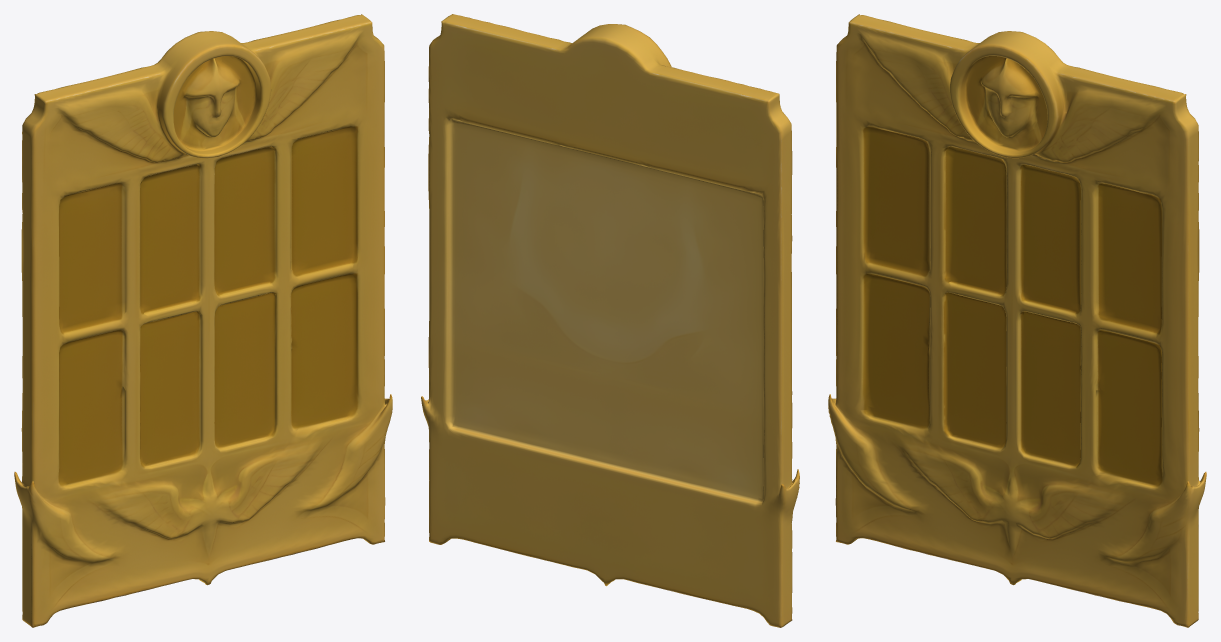
Rendered from base_basic_pbr.fbx.
3 views of the same model, side by side, from view 1: azimuth 30°, elevation 25°; view 2: azimuth 150°, elevation 25°; view 3: azimuth 330°, elevation 25° (orthographic).
Visible parts, largest first — view 1: model; view 2: model; view 3: model.
Boxes of the visible parts, x1,y1,x2,y2 form: model: [14, 14, 392, 627]; model: [421, 14, 799, 627]; model: [828, 14, 1206, 627].
Bounding box in the file's own units: 131 × 190 × 15.65.
Materials: 1 (1 with a texture image).
